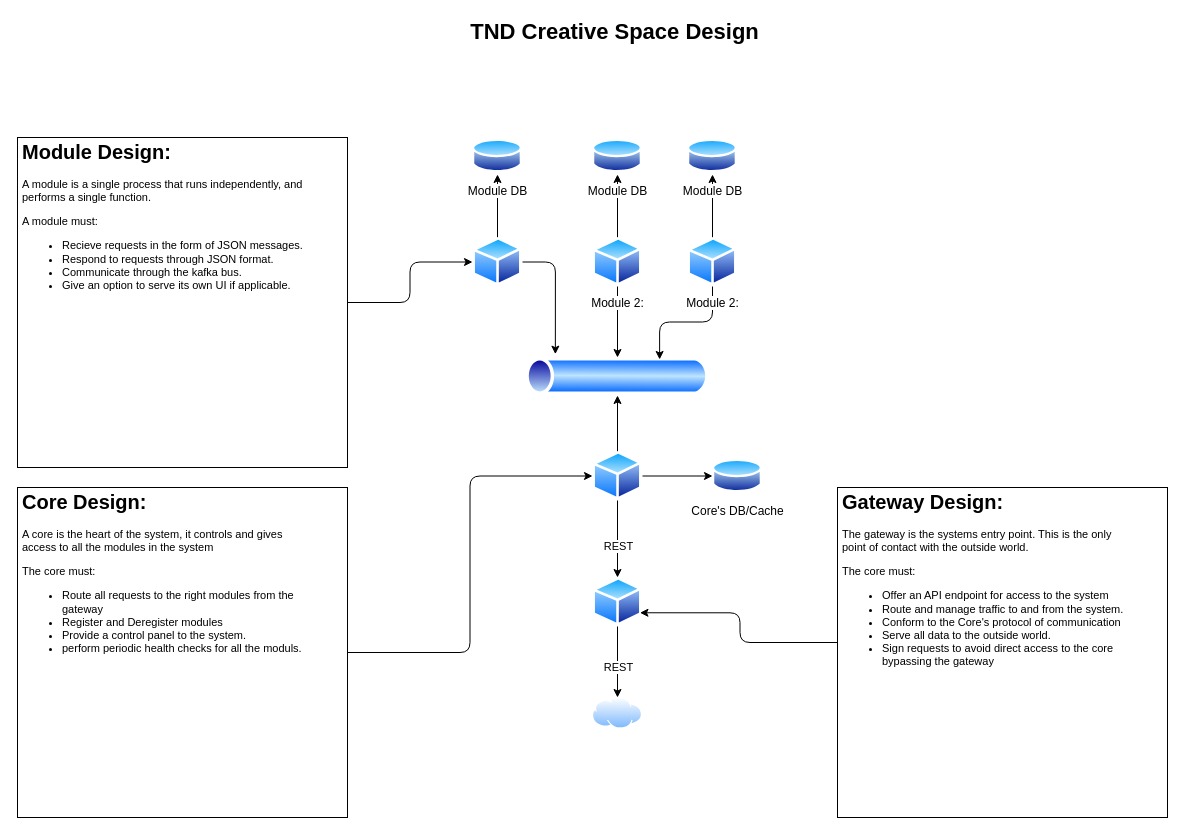
The diagram is 1185 pixels wide and 835 high, and some of its shapes have lost their labels. The shapes that lost their labels are listed below. From the top down, each one's centre as x and y in pixels, then its label:
At [497,261]: "Module 1:".
At [617,376]: "Kafka Event Stream".
At [617,475]: "Core".
At [617,601]: "Gateway".
